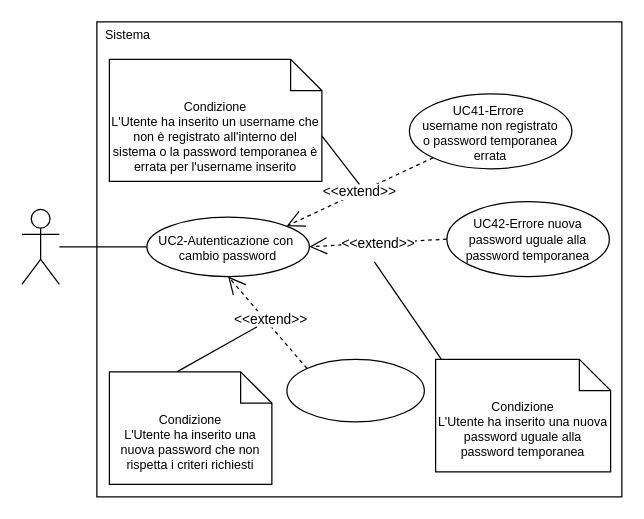
The diagram is 644 pixels wide and 519 high, and some of its shapes have lost their labels. Each missing label, with the box of its shape:
UC43- La nuova password non è valida: (286, 358, 424, 422)
Utente: (21, 208, 59, 284)
